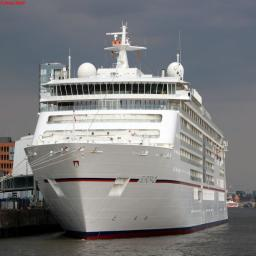cruises: (23, 23, 232, 244)
